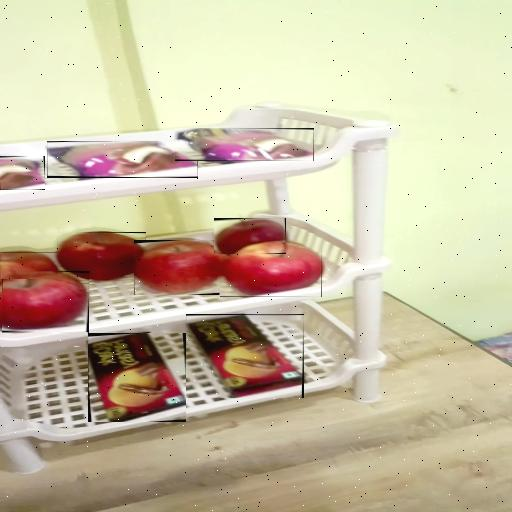Apple: (220, 243, 322, 297), (2, 272, 89, 334), (134, 240, 224, 295), (57, 232, 146, 282), (214, 218, 286, 254), (0, 252, 58, 279)
Choco Fills: (186, 314, 304, 398), (88, 333, 186, 422)
Choco Pie: (47, 141, 198, 178), (175, 128, 314, 161), (0, 156, 45, 190)
